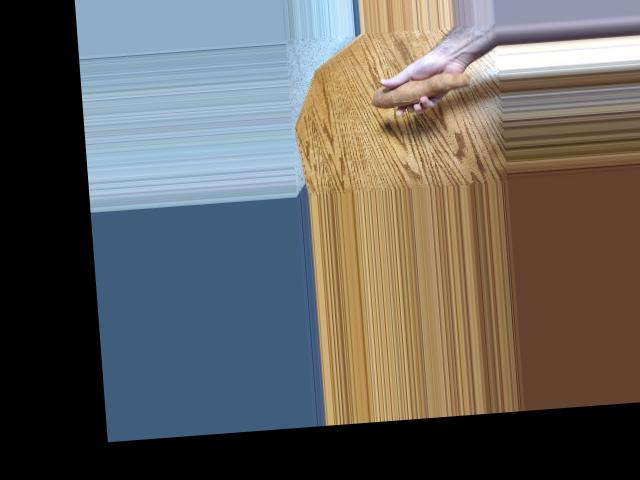sweet_potato: (367, 61, 481, 111)
